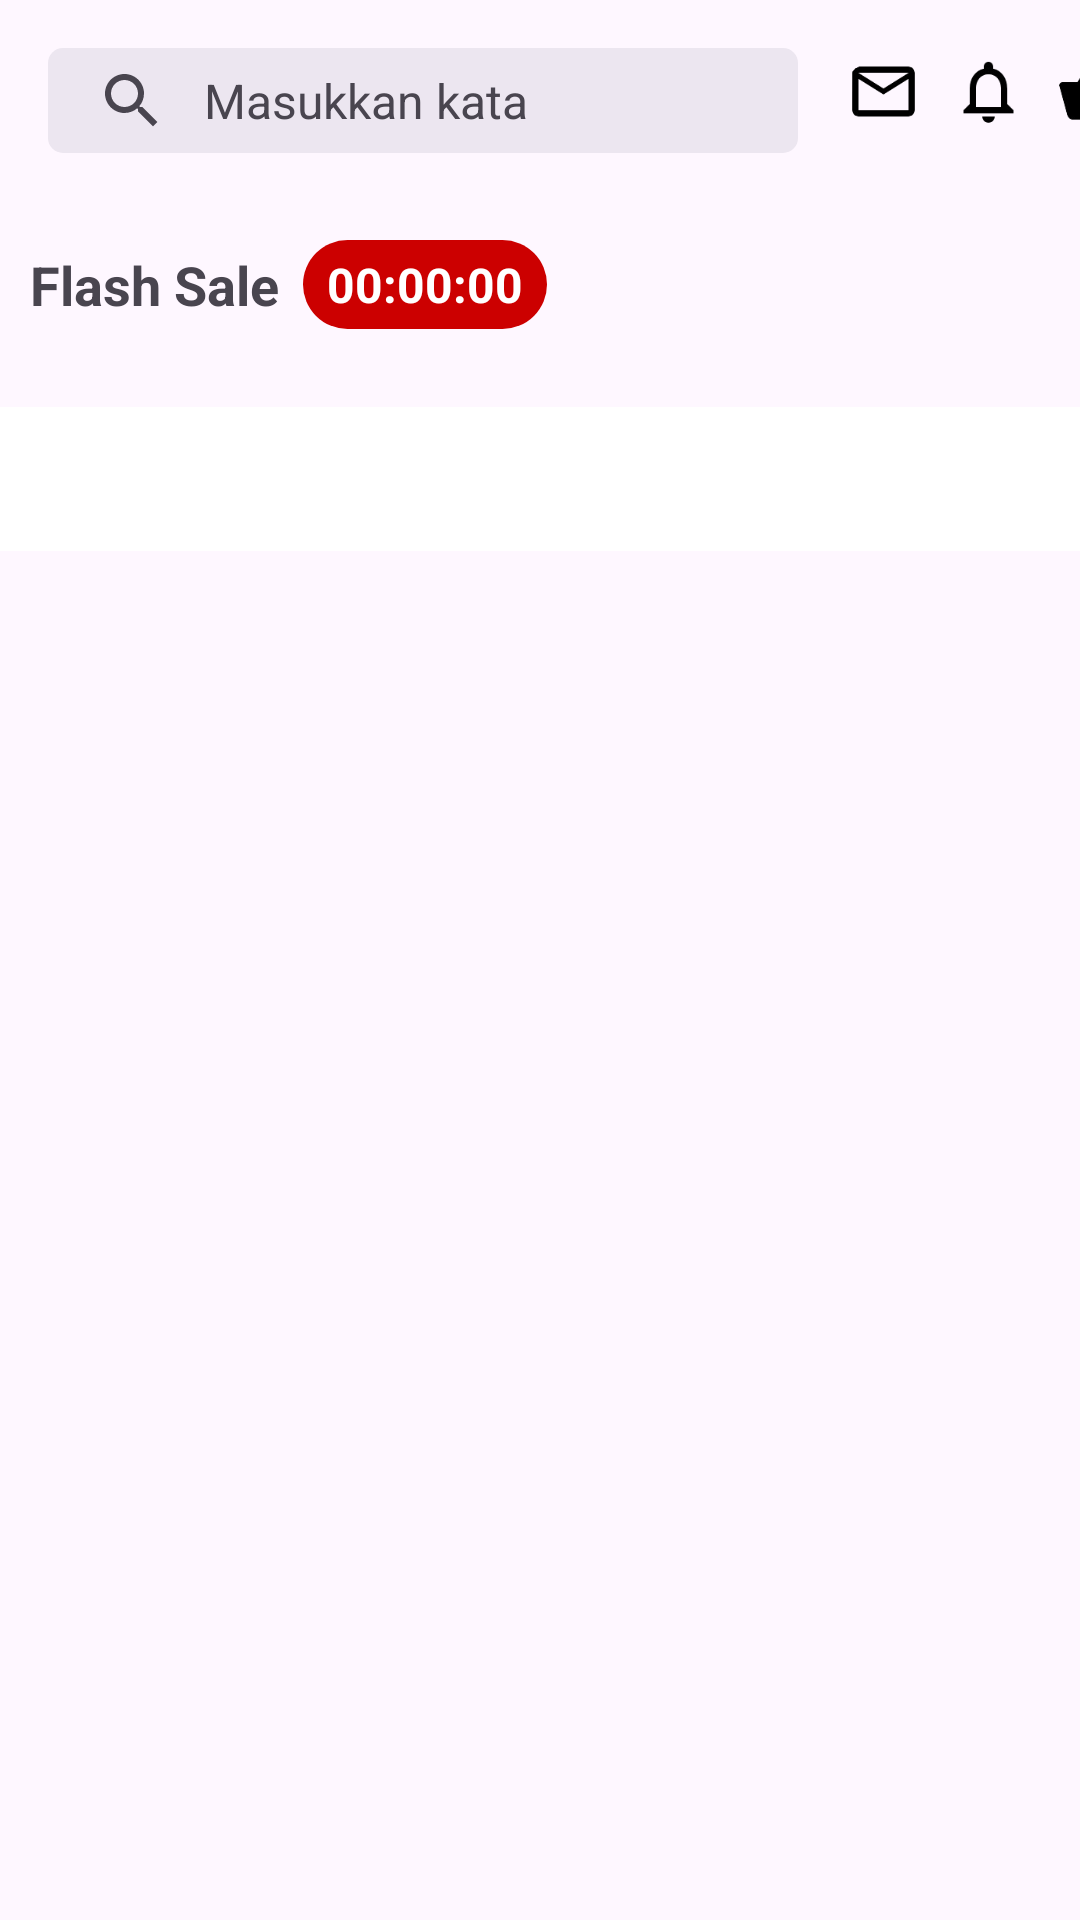

Named icons in this screenshot (1080 × 1920) and their centers, (x=x, y=y):
notifikasi: (x=988, y=92)
pesan: (x=883, y=91)
